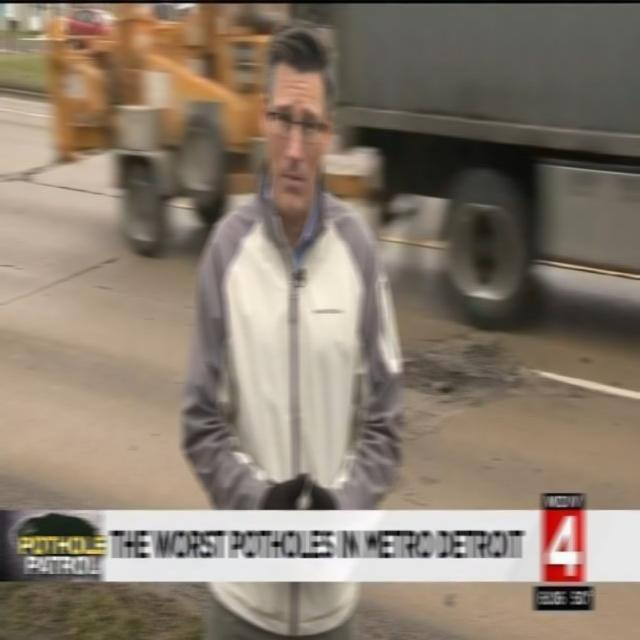Pothole: (401, 334, 544, 412)
